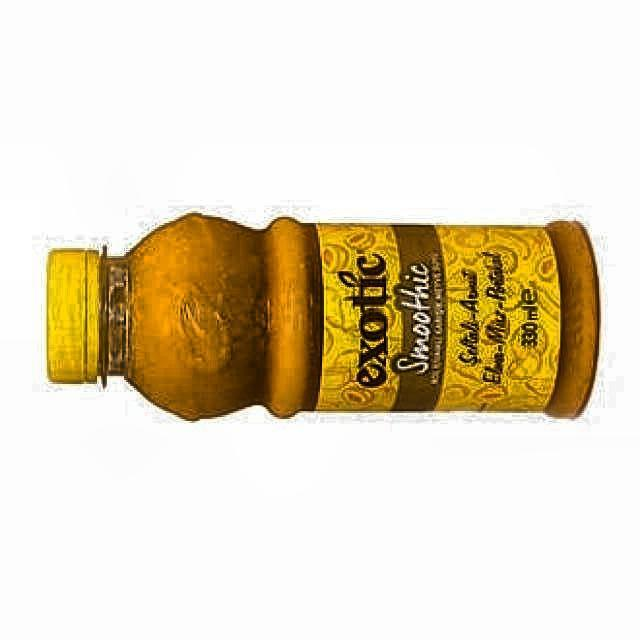plastic: (46, 214, 599, 419)
